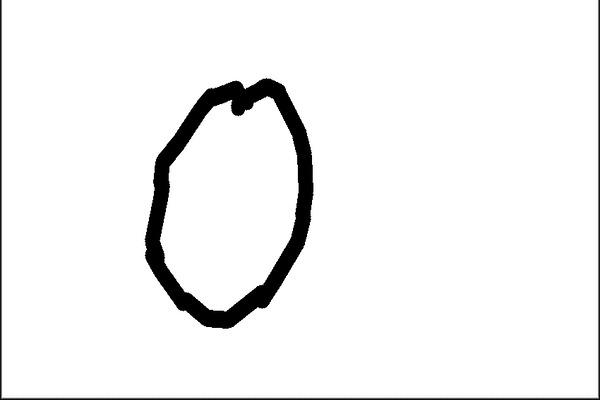O: (117, 62, 327, 332)
